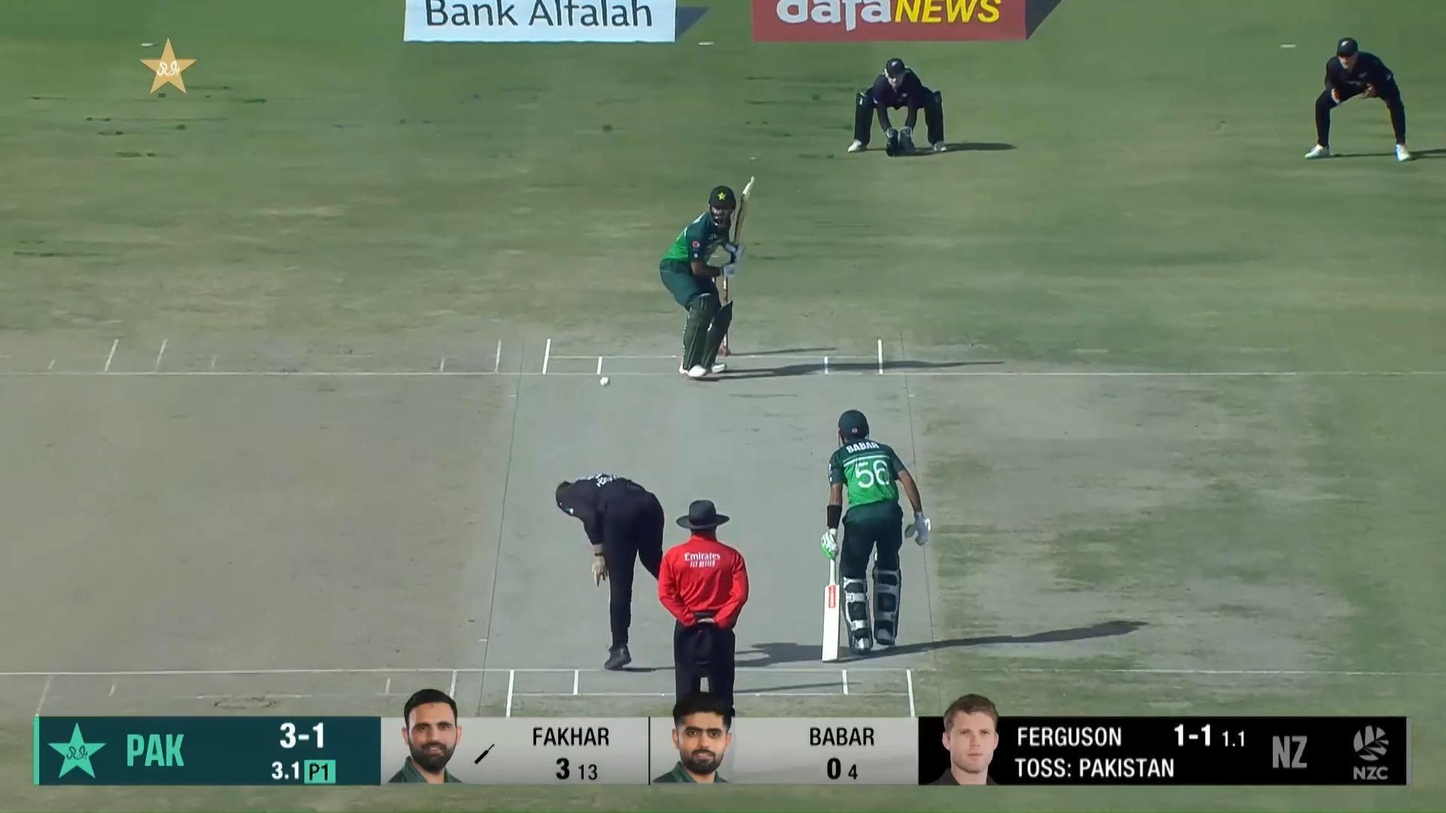BM 1: (659, 175, 757, 379)
BO: (556, 473, 664, 671)
